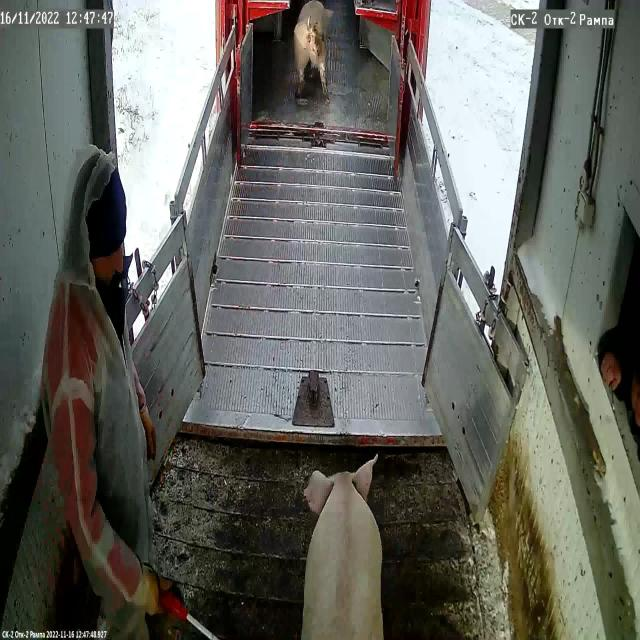pig: (301, 459, 384, 640), (294, 1, 329, 89)
